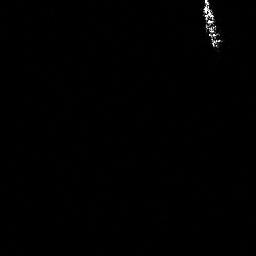ship: (198, 1, 226, 52)
